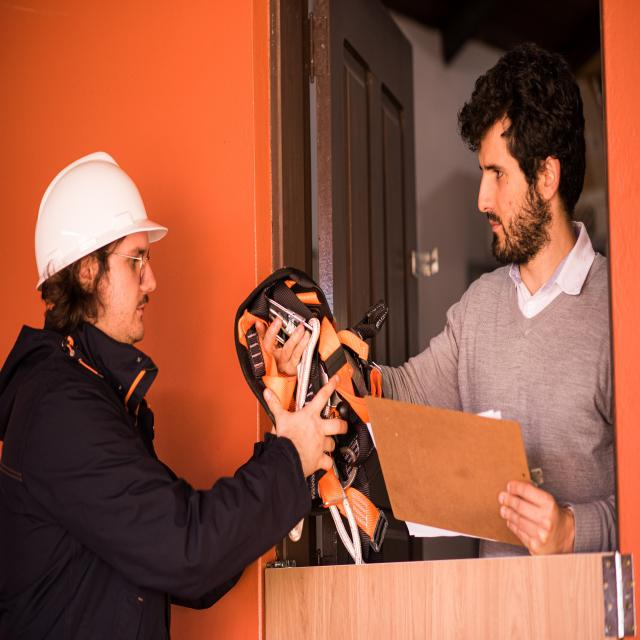capacete: (30, 148, 171, 297)
